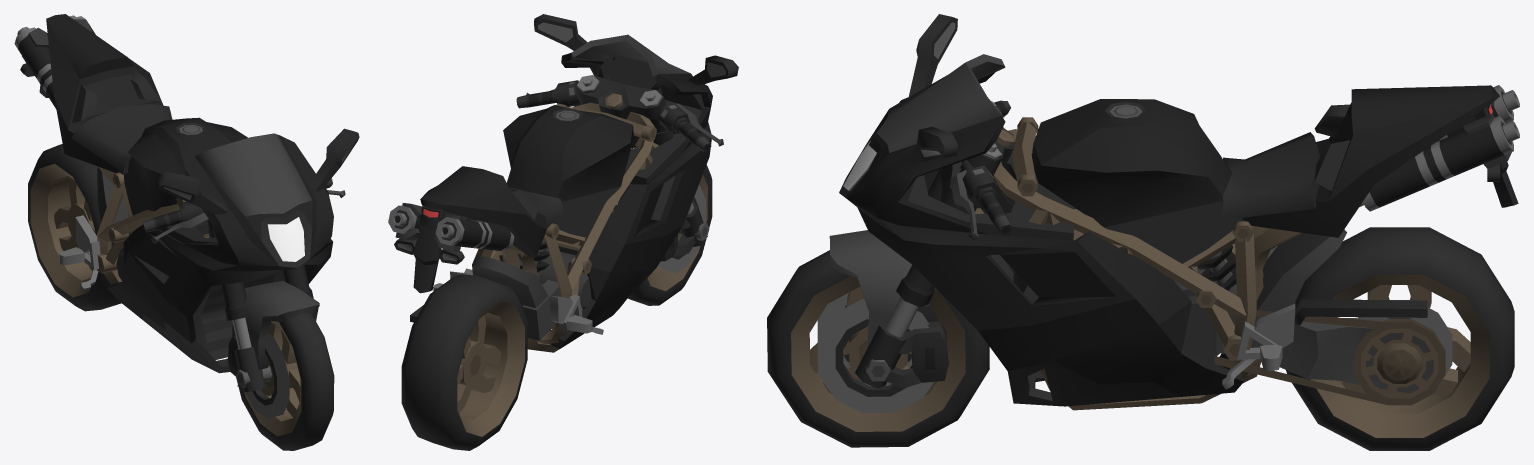
Rendered from SportsBike_OP.fbx.
The picture shows the model from 3 angles, left to right: view 1: azimuth 30°, elevation 25°; view 2: azimuth 150°, elevation 25°; view 3: azimuth 270°, elevation 25°; orthographic projection. The views are drawn at different scales.
Visible parts, largest first — view 1: Bike_BLK, Front Wheel, Rear Wheel; view 2: Bike_BLK, Rear Wheel, Front Wheel; view 3: Bike_BLK, Rear Wheel, Front Wheel.
Boxes of the visible parts, left/top/right/bottom form: Bike_BLK: left=14, top=14, right=359, bottom=392; Front Wheel: left=232, top=313, right=334, bottom=450; Rear Wheel: left=28, top=144, right=121, bottom=311; Bike_BLK: left=388, top=14, right=738, bottom=352; Rear Wheel: left=401, top=274, right=527, bottom=450; Front Wheel: left=628, top=165, right=712, bottom=305; Bike_BLK: left=829, top=14, right=1519, bottom=410; Rear Wheel: left=1286, top=227, right=1514, bottom=450; Front Wheel: left=767, top=250, right=989, bottom=447.
Size of the model in its own units: 0.8456 by 1.14 by 2.04.
Materials: 1 (1 with a texture image).
